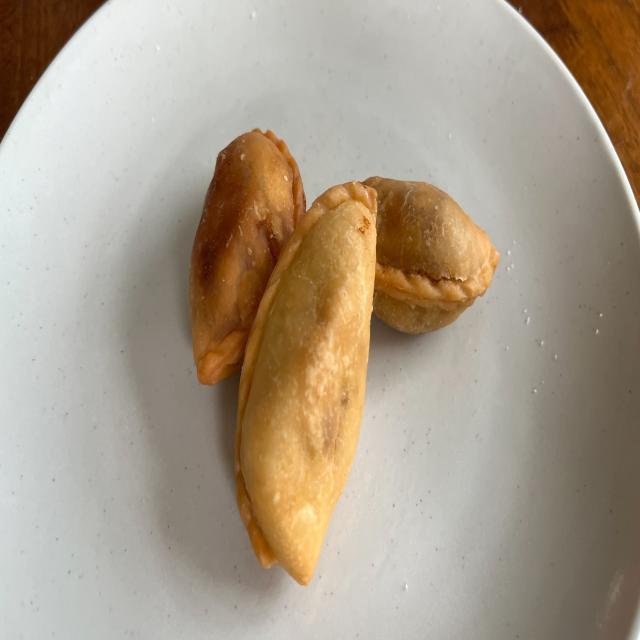karipap: (235, 182, 378, 584), (189, 129, 305, 384), (365, 176, 499, 333)
